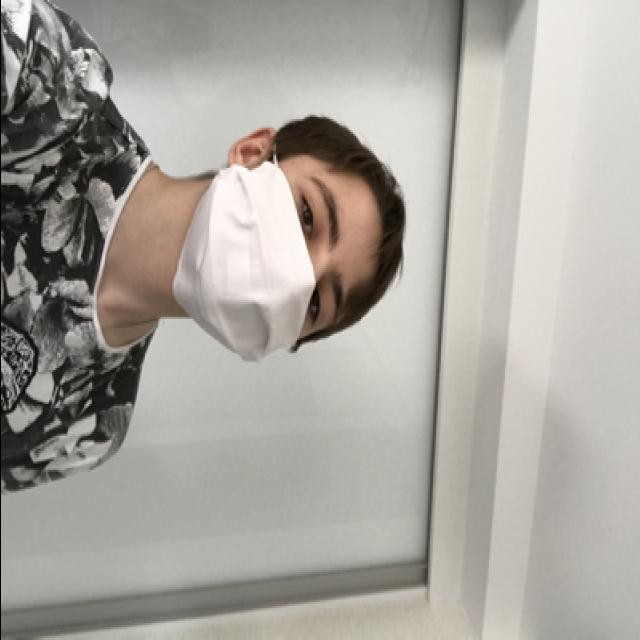with_mask: (167, 153, 356, 357)
